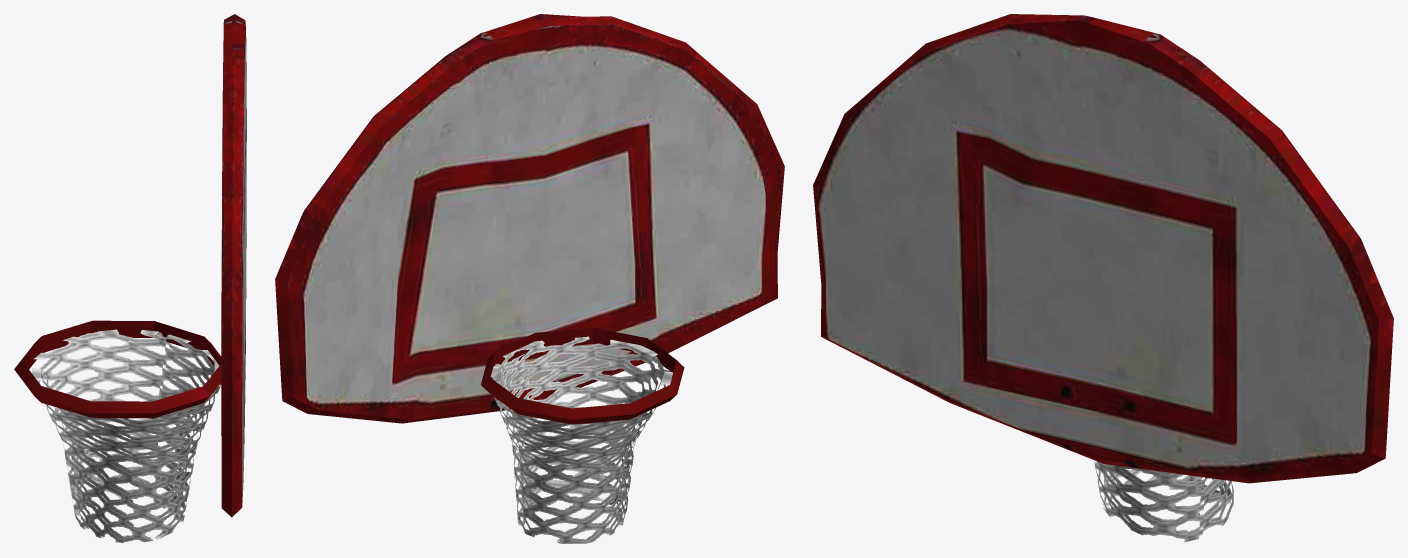
Rendered from bballhoop.001_basketballhoop_0.001_lev2.glb.
The picture shows the model from 3 angles, left to right: view 1: azimuth 30°, elevation 25°; view 2: azimuth 150°, elevation 25°; view 3: azimuth 270°, elevation 25°; orthographic projection. The views are drawn at different scales.
Parts seen in each view (by area): view 1: bballhoop.001_basketballhoop_0.001_lev2; view 2: bballhoop.001_basketballhoop_0.001_lev2; view 3: bballhoop.001_basketballhoop_0.001_lev2.
Boxes of the visible parts, <box> form: bballhoop.001_basketballhoop_0.001_lev2: <box>14,14,246,542</box>; bballhoop.001_basketballhoop_0.001_lev2: <box>275,14,784,543</box>; bballhoop.001_basketballhoop_0.001_lev2: <box>813,14,1393,542</box>.
Size of the model in its own units: 1.43 by 2.12 by 2.08.
Materials: 1 (1 with a texture image).
